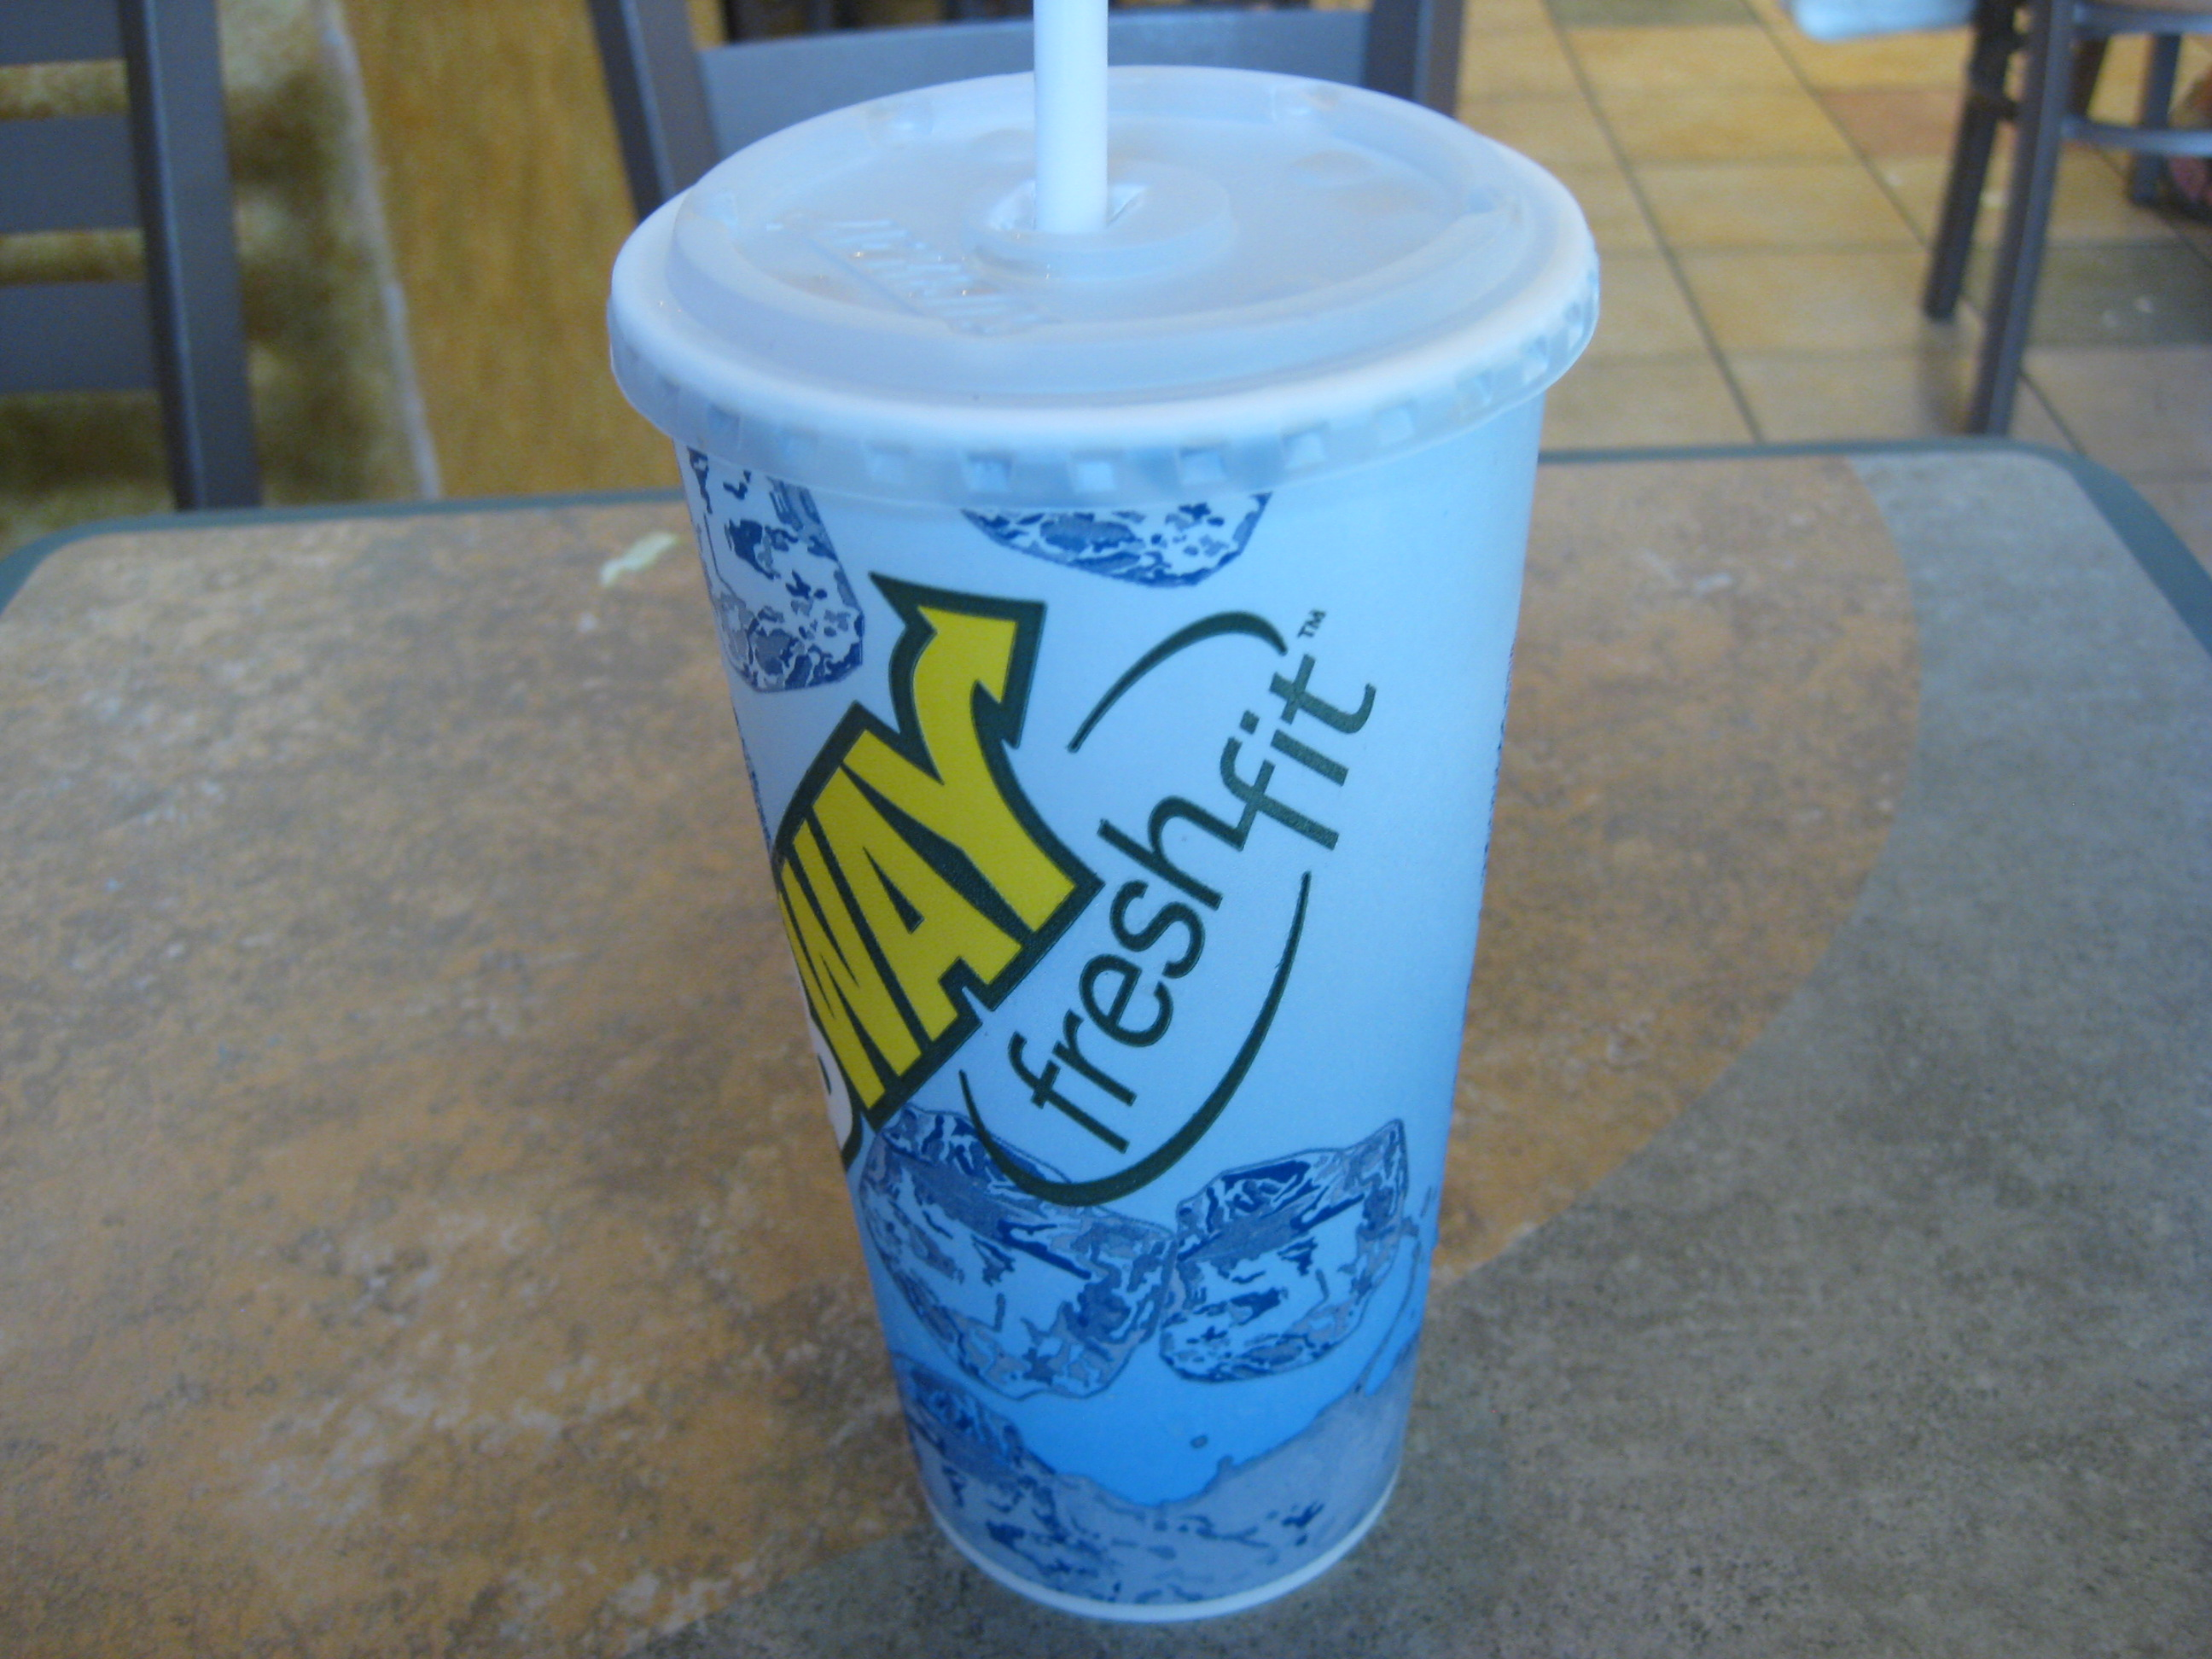drink: (588, 6, 1683, 1642)
